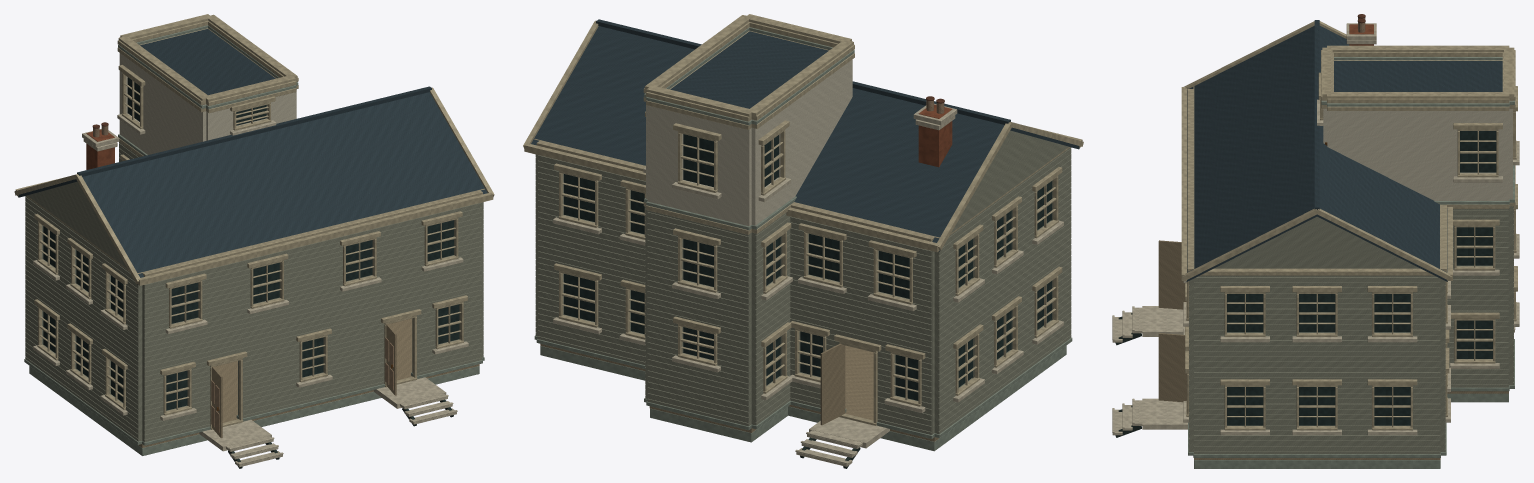
The picture shows the model from 3 angles, left to right: view 1: azimuth 30°, elevation 25°; view 2: azimuth 150°, elevation 25°; view 3: azimuth 270°, elevation 25°; orthographic projection. The views are drawn at different scales.
Visible parts, largest first — view 1: A010-06_02_Clapboard, A010-06_11_Roof_Long_Side_Gable, A010-06_04_Architectural_Trim, A010-06_03_Window_Door_Frames, A010-06_01_Wall_Shell, A010-06_12_Roof_Edges, A010-06_06_Glazing, A010-06_07_Floors, A010-06_11_Roof_Stair_Tower_Cap, A010-06_00_Foundation, A010-06_08_Stairs, A010-06_13_Chimneys (+2 smaller); view 2: A010-06_02_Clapboard, A010-06_11_Roof_Long_Side_Gable, A010-06_01_Wall_Shell, A010-06_04_Architectural_Trim, A010-06_03_Window_Door_Frames, A010-06_06_Glazing, A010-06_12_Roof_Edges, A010-06_11_Roof_Stair_Tower_Cap, A010-06_00_Foundation, A010-06_07_Floors, A010-06_13_Chimneys, A010-06_05_Door_Leaf_02 (+1 smaller); view 3: A010-06_02_Clapboard, A010-06_11_Roof_Long_Side_Gable, A010-06_01_Wall_Shell, A010-06_04_Architectural_Trim, A010-06_06_Glazing, A010-06_03_Window_Door_Frames, A010-06_12_Roof_Edges, A010-06_11_Roof_Stair_Tower_Cap, A010-06_07_Floors, A010-06_00_Foundation, A010-06_05_Door_Leaf_01, A010-06_05_Door_Leaf_00 (+2 smaller).
Part boxes in pixels (box(x1,y1,x2,y2)): A010-06_02_Clapboard: box(25, 142, 483, 442); A010-06_11_Roof_Long_Side_Gable: box(18, 86, 487, 284); A010-06_04_Architectural_Trim: box(24, 20, 484, 445); A010-06_03_Window_Door_Frames: box(37, 72, 463, 429); A010-06_01_Wall_Shell: box(27, 53, 482, 441); A010-06_12_Roof_Edges: box(14, 14, 494, 285); A010-06_06_Glazing: box(43, 77, 459, 410); A010-06_07_Floors: box(138, 318, 479, 451); A010-06_11_Roof_Stair_Tower_Cap: box(140, 29, 275, 95); A010-06_00_Foundation: box(29, 366, 479, 455); A010-06_08_Stairs: box(226, 393, 457, 467); A010-06_13_Chimneys: box(82, 122, 119, 169); A010-06_02_Clapboard: box(535, 147, 1071, 434); A010-06_11_Roof_Long_Side_Gable: box(531, 19, 1079, 251); A010-06_01_Wall_Shell: box(536, 59, 1068, 434); A010-06_04_Architectural_Trim: box(534, 22, 1072, 438); A010-06_03_Window_Door_Frames: box(558, 129, 1058, 425); A010-06_06_Glazing: box(564, 134, 1051, 400); A010-06_12_Roof_Edges: box(523, 14, 1083, 252); A010-06_11_Roof_Stair_Tower_Cap: box(670, 31, 828, 108); A010-06_00_Foundation: box(540, 345, 1066, 451); A010-06_07_Floors: box(540, 343, 938, 448); A010-06_13_Chimneys: box(913, 96, 957, 167); A010-06_05_Door_Leaf_02: box(820, 343, 845, 425); A010-06_02_Clapboard: box(1189, 206, 1513, 454); A010-06_11_Roof_Long_Side_Gable: box(1186, 20, 1447, 281); A010-06_01_Wall_Shell: box(1189, 100, 1512, 453); A010-06_04_Architectural_Trim: box(1183, 50, 1519, 457); A010-06_06_Glazing: box(1227, 131, 1496, 425); A010-06_03_Window_Door_Frames: box(1186, 100, 1516, 430); A010-06_12_Roof_Edges: box(1181, 21, 1514, 280); A010-06_11_Roof_Stair_Tower_Cap: box(1334, 61, 1502, 91); A010-06_07_Floors: box(1142, 306, 1508, 459); A010-06_00_Foundation: box(1194, 393, 1508, 468); A010-06_05_Door_Leaf_01: box(1158, 333, 1186, 402); A010-06_05_Door_Leaf_00: box(1158, 240, 1186, 309).
Size of the model in its own units: 13.11 by 9.99 by 11.89.
Materials: 13 (13 with a texture image).
